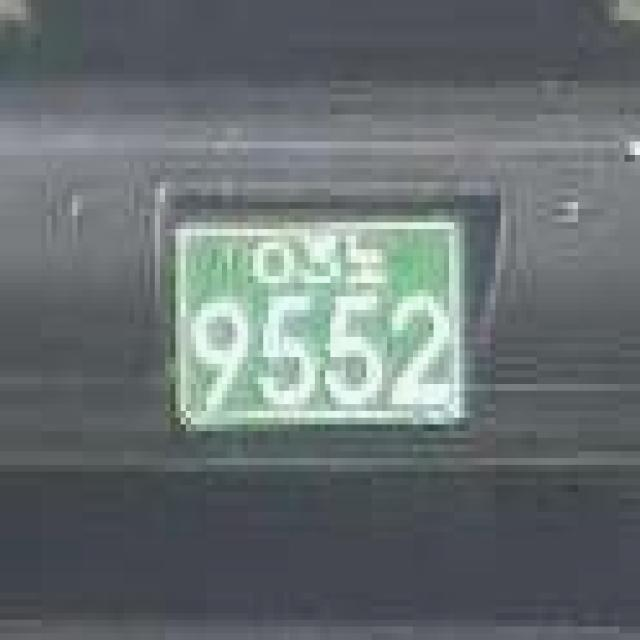illegal_plate: (162, 193, 480, 458)
